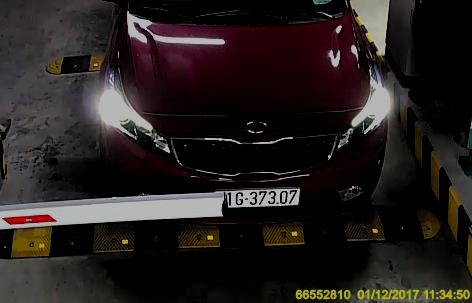plate: (211, 186, 300, 211)
